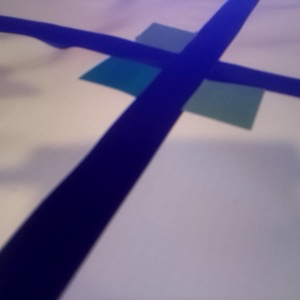bottom_left: (80, 55, 189, 97)
bottom_right: (160, 72, 265, 129)
top_left: (135, 21, 217, 59)
